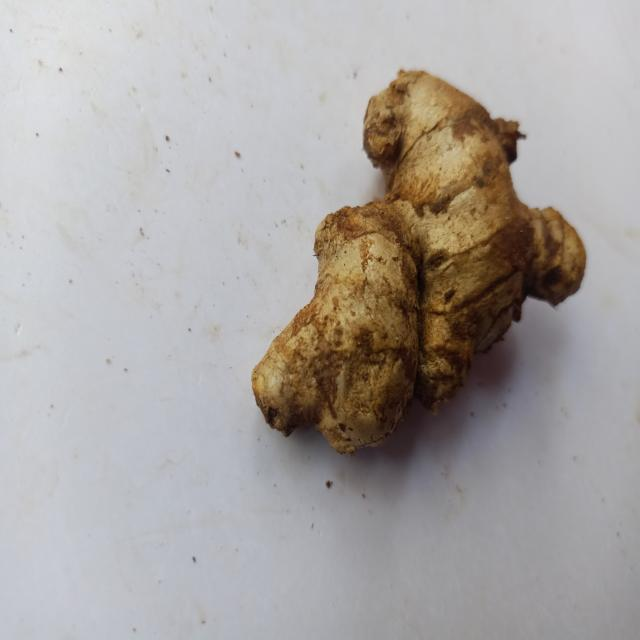Ginger: (252, 70, 587, 453)
